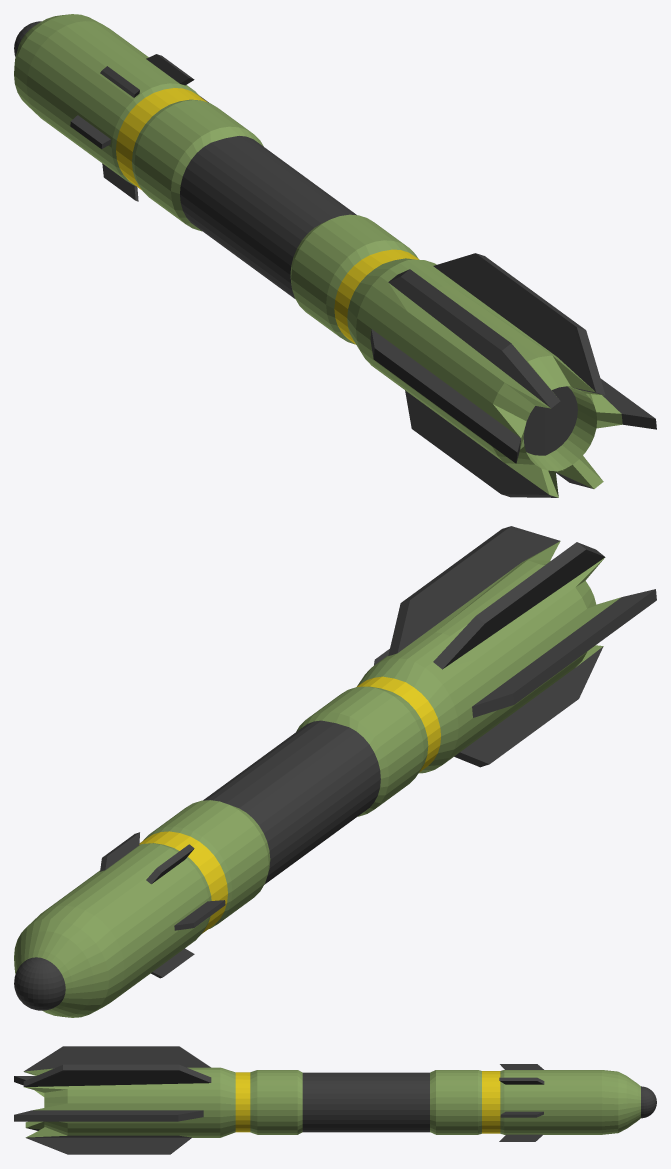
Rendered from Rocket_1_med_poly.glb.
The picture shows the model from 3 angles, top to bottom: view 1: azimuth 30°, elevation 25°; view 2: azimuth 150°, elevation 25°; view 3: azimuth 270°, elevation 25°; orthographic projection. The views are drawn at different scales.
Visible parts, largest first — view 1: Rocket; view 2: Rocket; view 3: Rocket.
Boxes of the visible parts, x1,y1,x2,y2 form: Rocket: (14,14,656,497); Rocket: (14,526,656,1017); Rocket: (14,1046,656,1154).
Bounding box in the file's own units: 0.0732 × 0.0785 × 0.5038.
